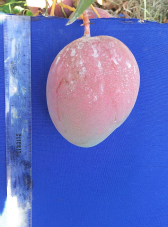Mango-sano: (46, 36, 139, 146)
